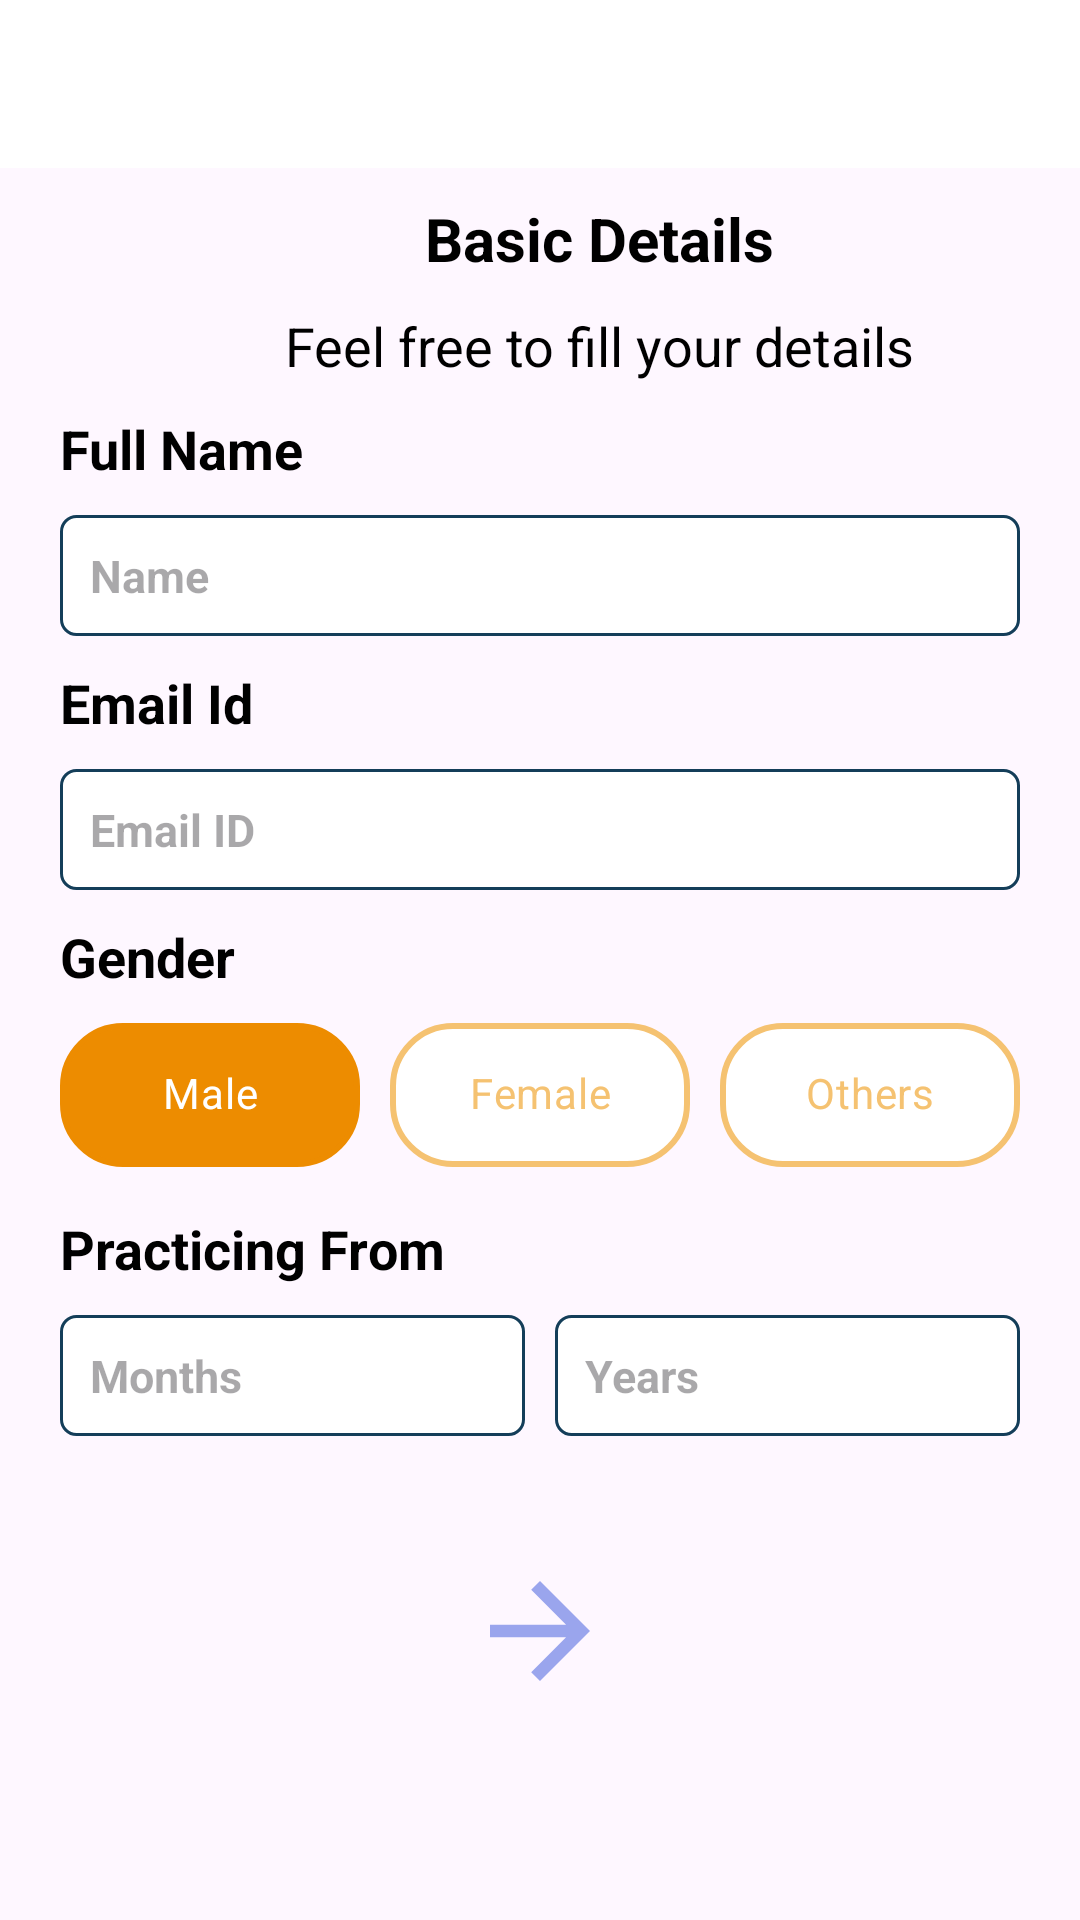

Icons on this 1080px x 1920px Android screen, each with its box as (x1, y1, x2, y2):
arrow forward: (490, 1581, 590, 1681)
